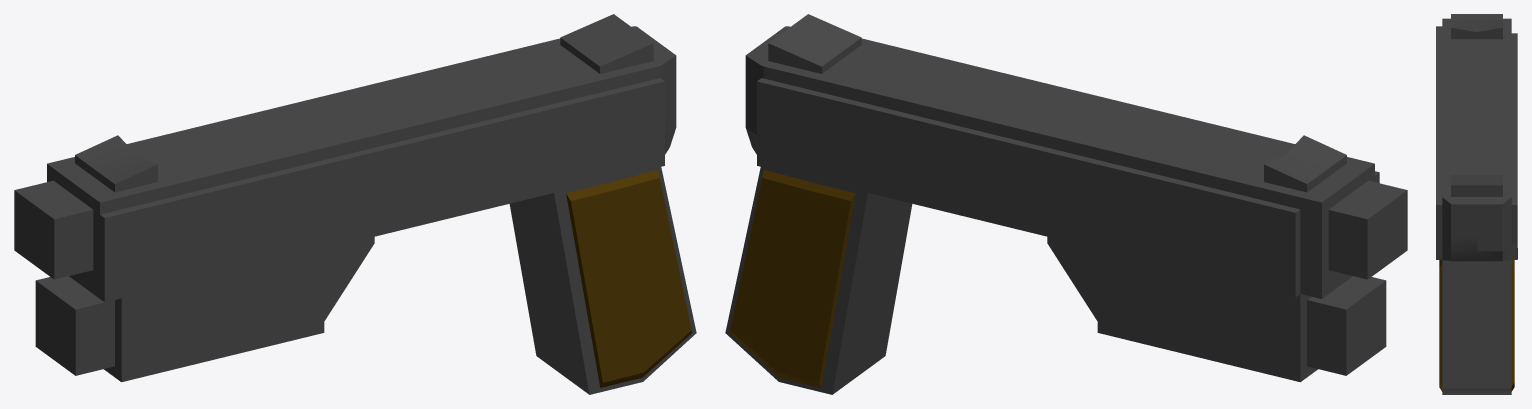
File: Pistol.fbx
3 renders of one model, left to right at view 1: azimuth 30°, elevation 25°; view 2: azimuth 150°, elevation 25°; view 3: azimuth 270°, elevation 25°, orthographic. The views are drawn at different scales.
Visible parts, largest first — view 1: Pistol; view 2: Pistol; view 3: Pistol.
Boxes of the visible parts, x1,y1,x2,y2 form: Pistol: (14,14,696,394); Pistol: (725,14,1407,394); Pistol: (1436,14,1517,394).
Bounding box in the file's own units: 6.9 × 3.42 × 1.18.
